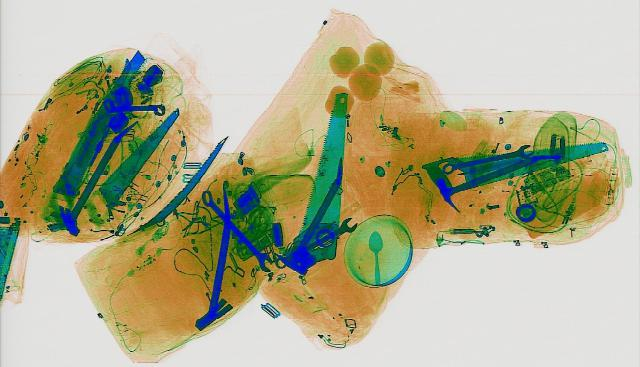Wrench: (192, 188, 282, 272), (266, 214, 362, 268), (437, 142, 538, 175), (102, 98, 166, 116)
